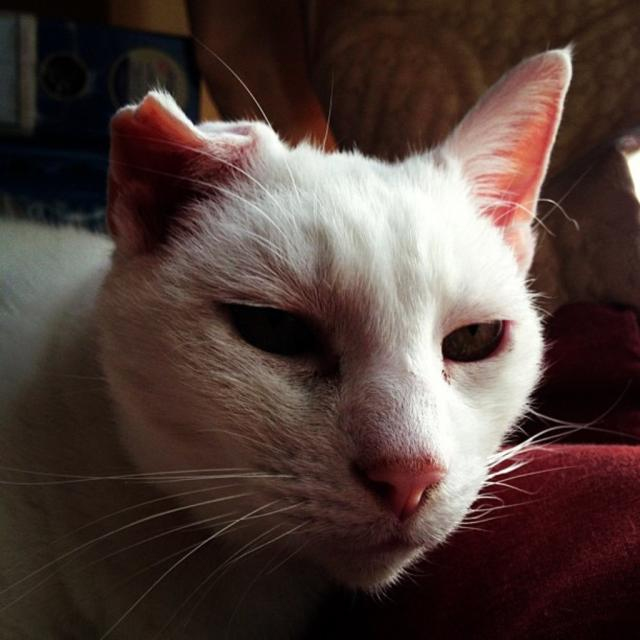Cat: (0, 35, 628, 638)
